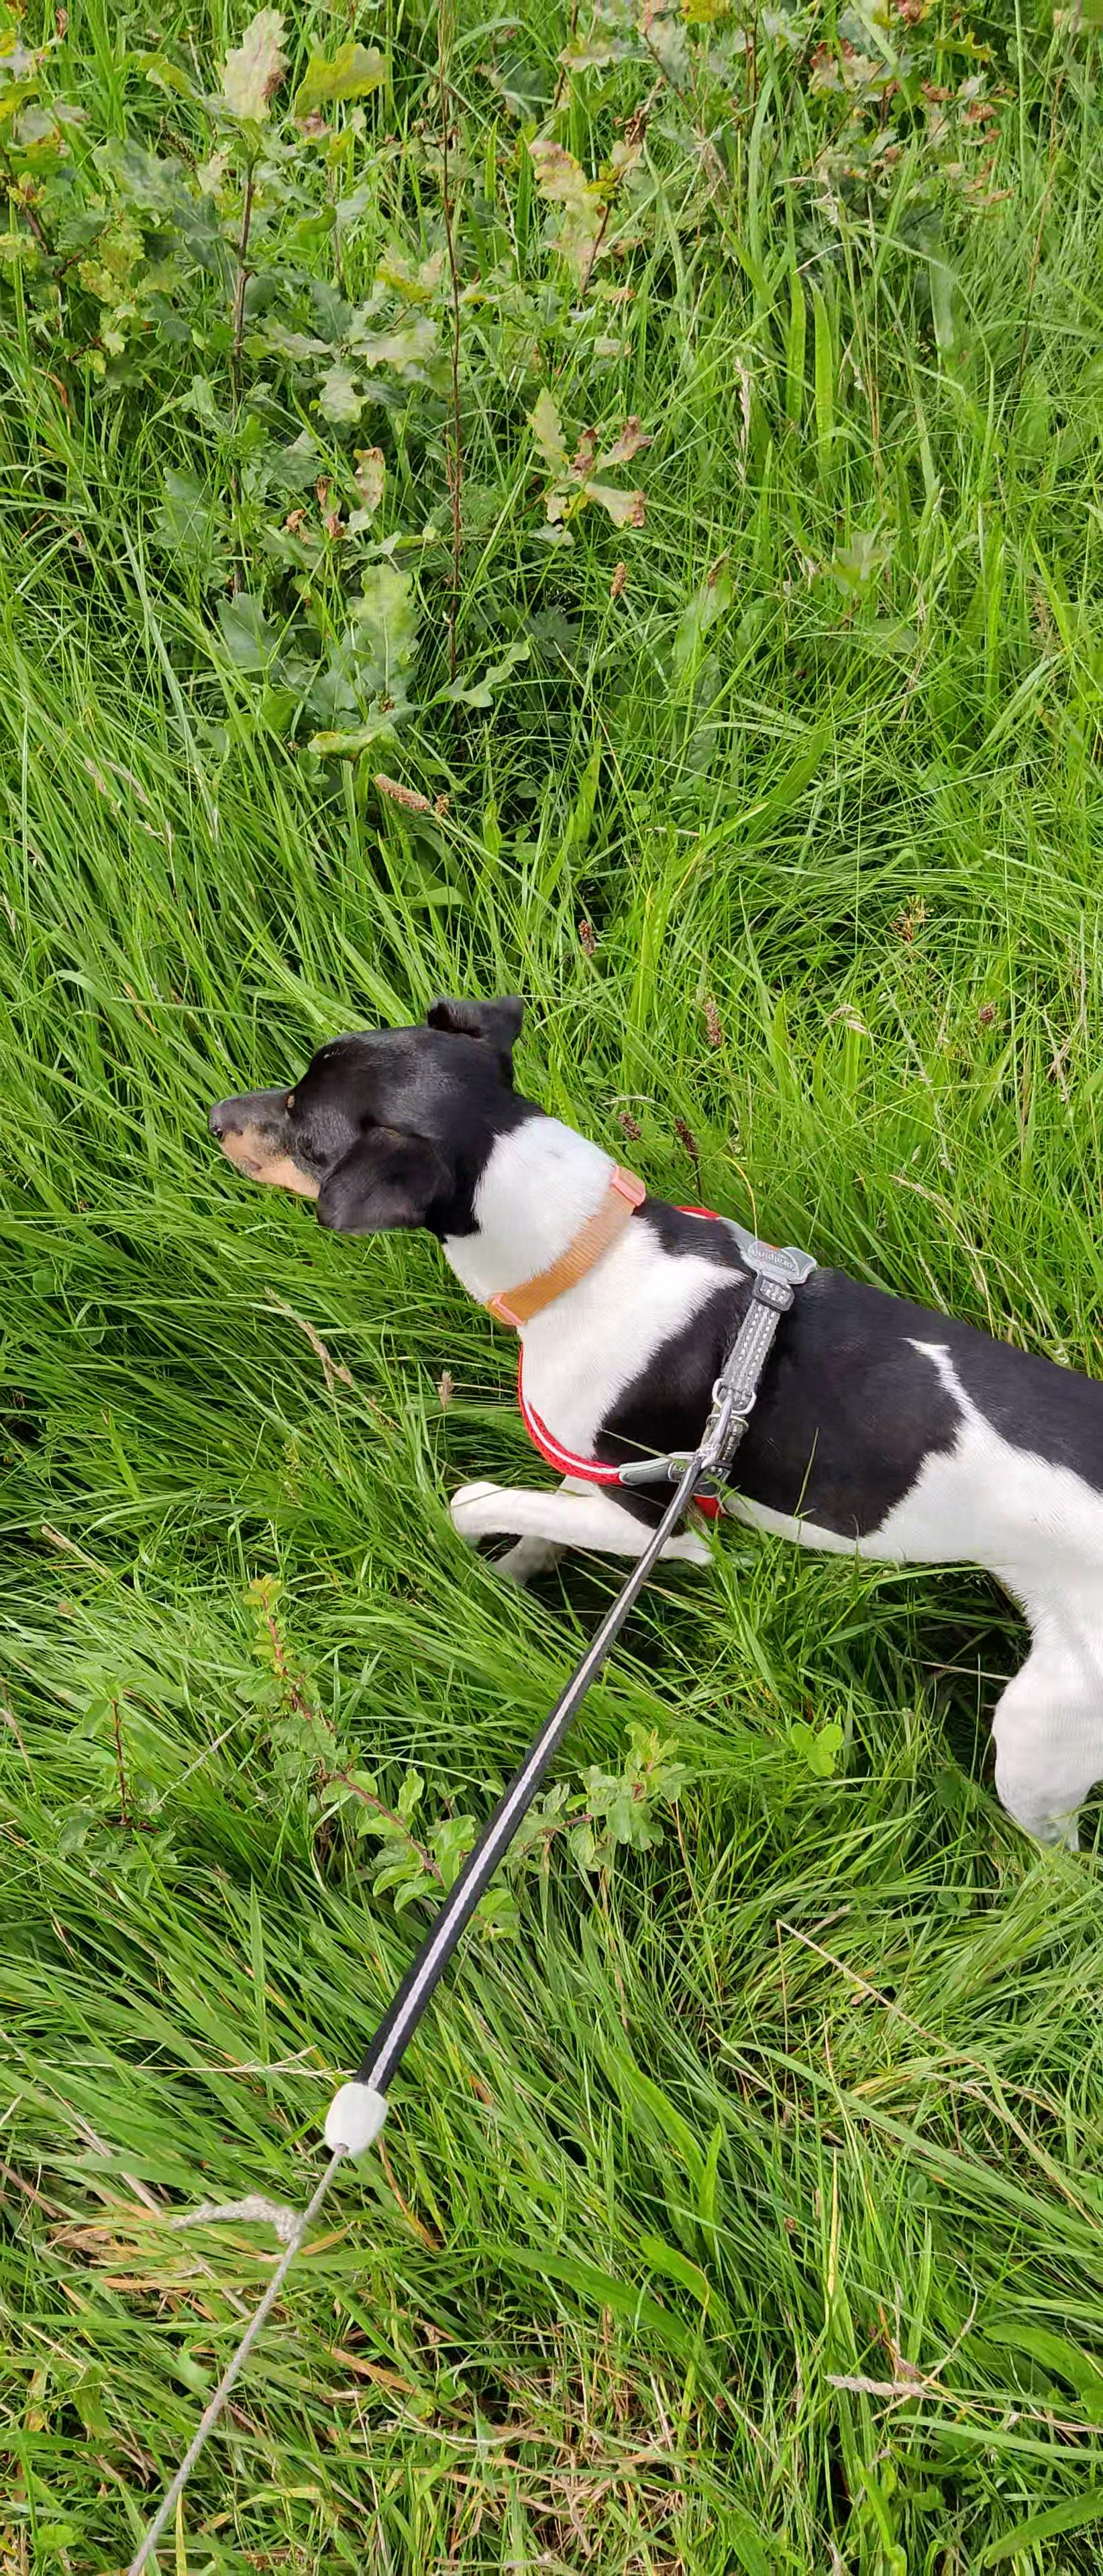Dog: (168, 974, 1103, 1876)
